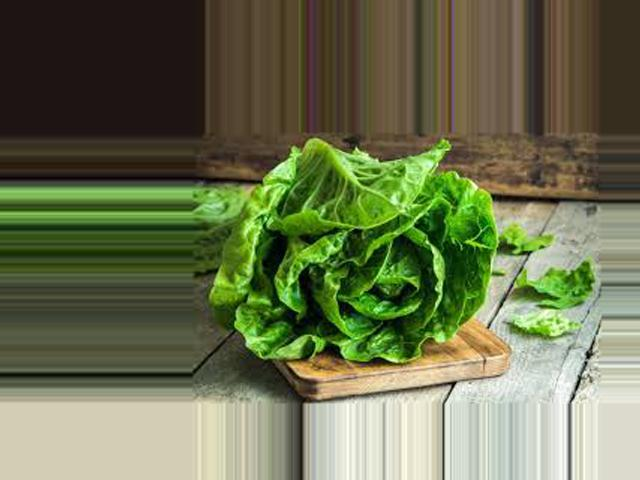lettuce: (203, 144, 483, 374)
